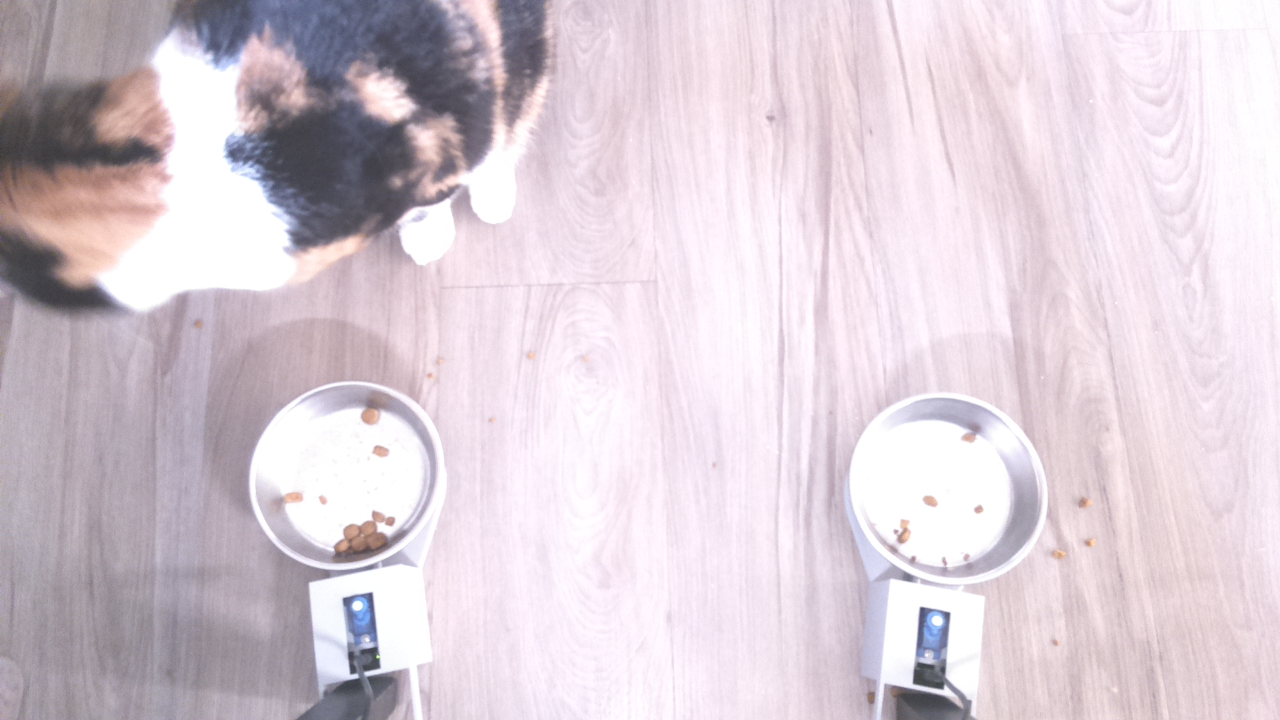bella: (1, 50, 258, 328)
open_bowl: (832, 392, 1058, 592), (236, 376, 441, 573)
